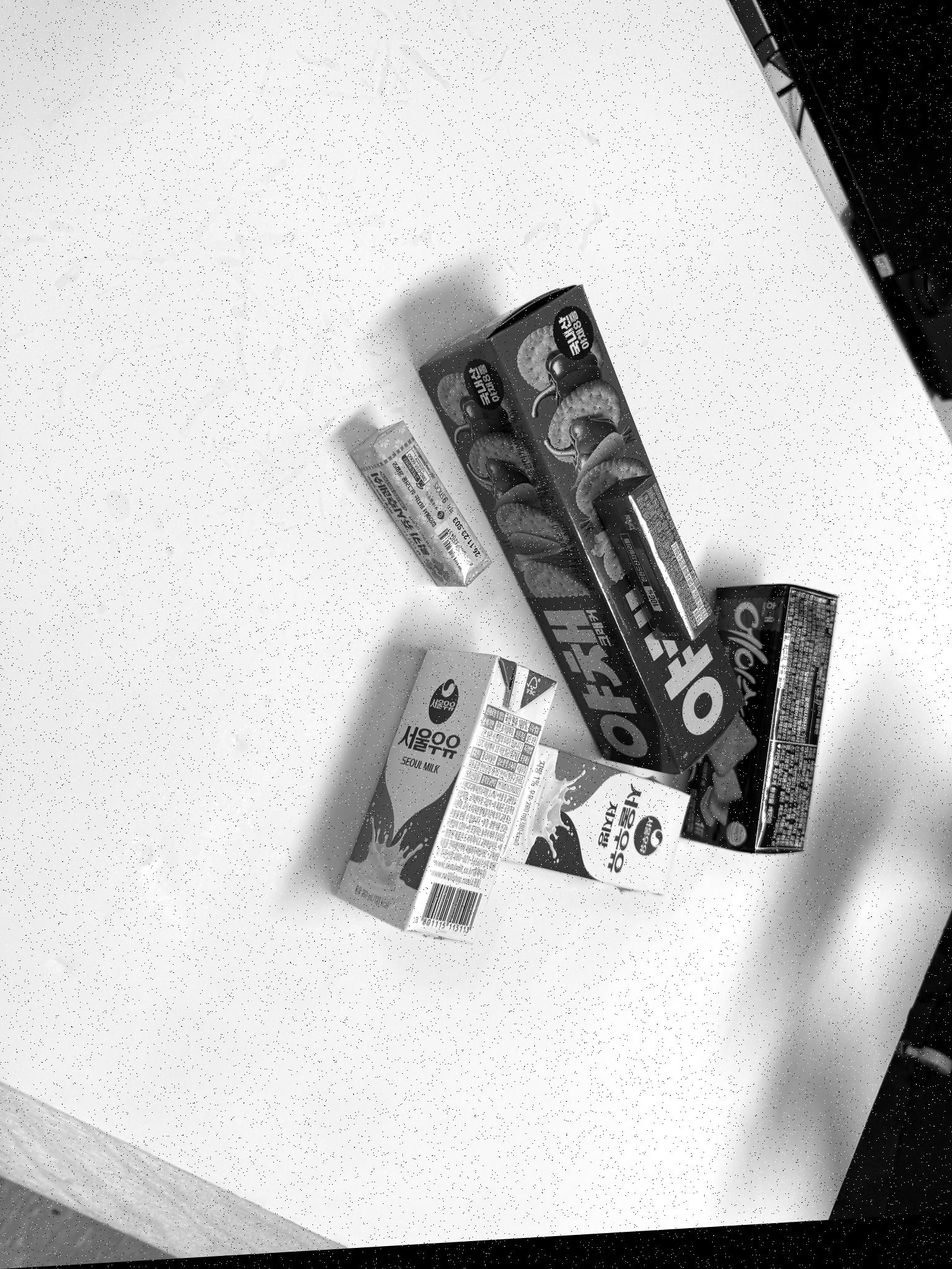cracker_ace: (685, 586, 839, 856)
cracker_vege: (415, 281, 747, 774)
gum_green: (595, 478, 715, 644)
gum_yellow: (347, 423, 490, 587)
milk_blue: (495, 743, 691, 895)
milk_green: (334, 646, 559, 946)
